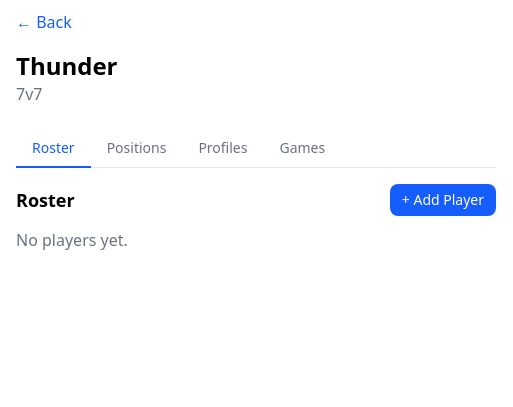
Test case: TeamDetail › positions tab › renders position slots grouped by template
The width and height of the screenshot is (513, 407).
Expected: the heading "Thunder" is shown, [16, 49, 118, 82]
Step 1. Click the tab "Positions" → point(136, 149), box [91, 130, 182, 168]
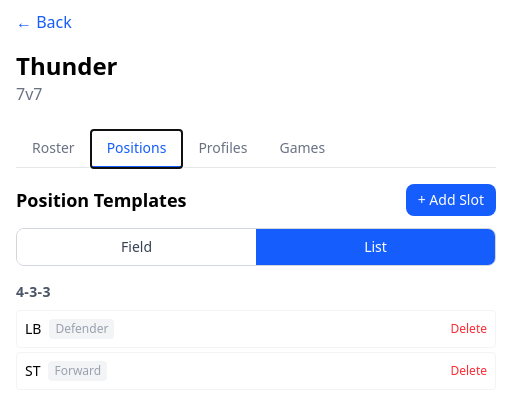
Now the text "LB" is shown, box [25, 319, 41, 339]
Now the text "ST" is shown, box [25, 361, 40, 381]
Now the heading "4-3-3" is shown, box [16, 282, 51, 301]
